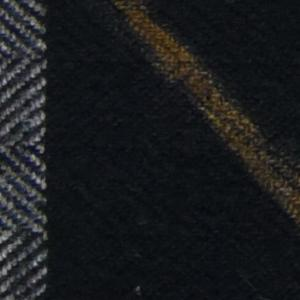Oil Stain: (110, 1, 300, 231)
